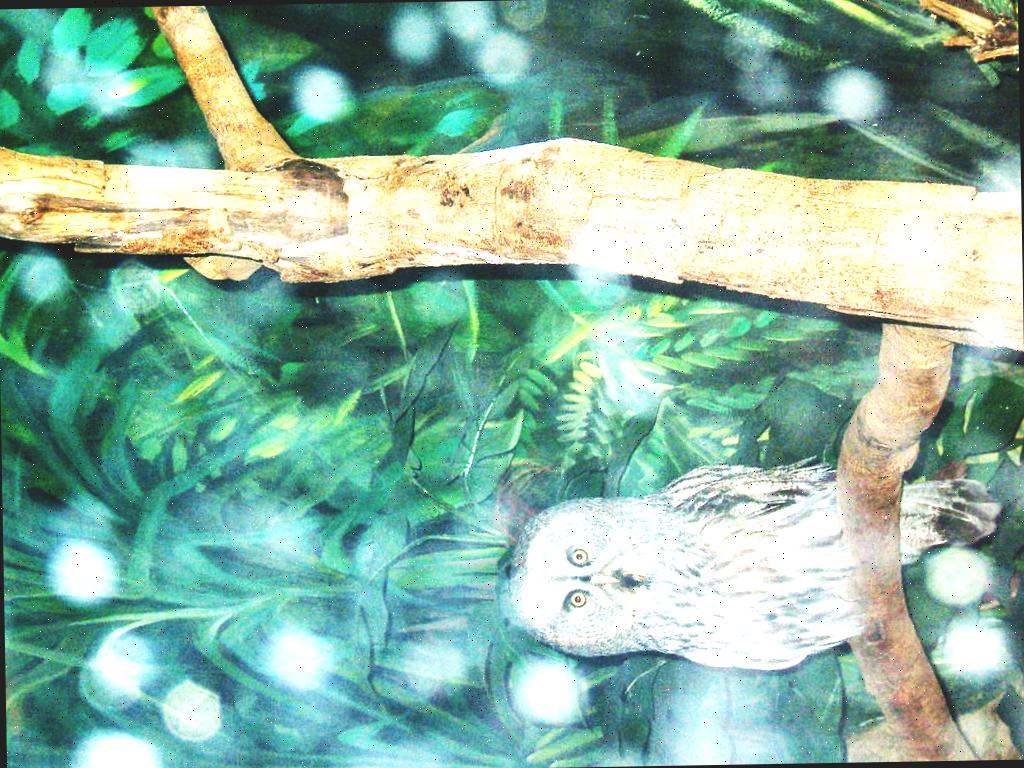Owl: (512, 452, 1014, 679)
